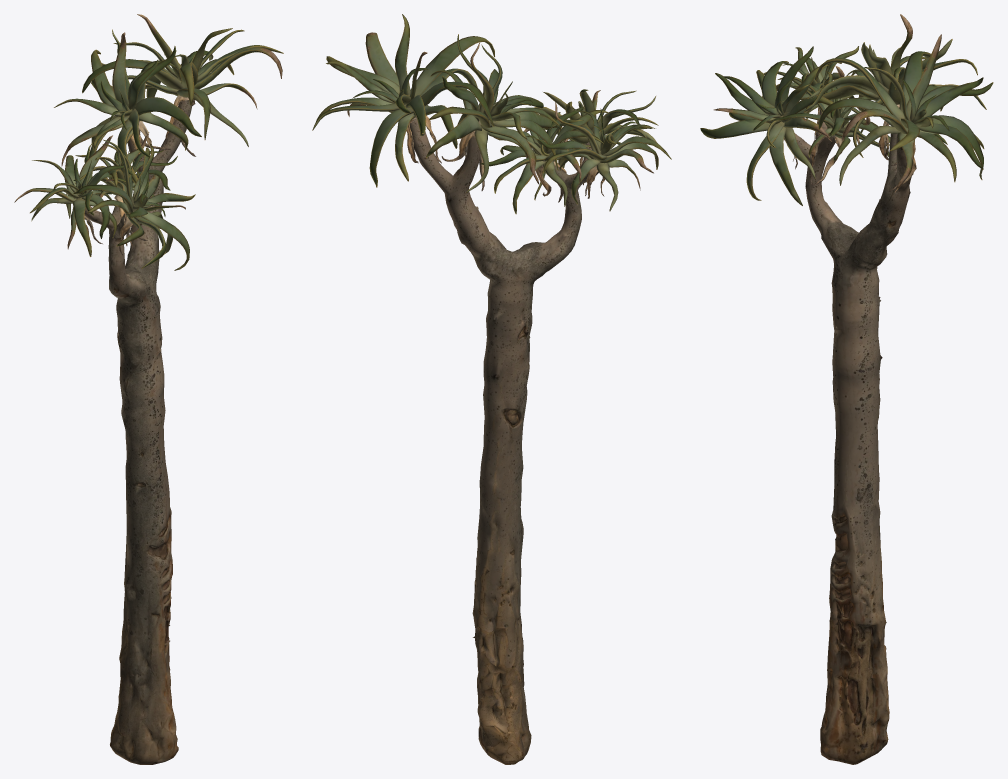
File: quiver_tree.glb
3 renders of one model, left to right at view 1: azimuth 30°, elevation 25°; view 2: azimuth 150°, elevation 25°; view 3: azimuth 270°, elevation 25°, orthographic. The views are drawn at different scales.
Parts seen in each view (by area): view 1: quiver_tree_01; view 2: quiver_tree_01; view 3: quiver_tree_01.
Part boxes in pixels (<box>): quiver_tree_01: <box>14,14,283,764</box>; quiver_tree_01: <box>312,14,671,764</box>; quiver_tree_01: <box>700,14,993,764</box>.
Bounding box in the file's own units: 1.18 × 2.72 × 0.9683.
Materials: 2 (2 with a texture image).
